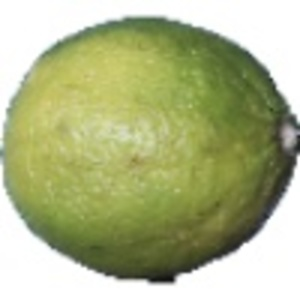limão: (1, 15, 300, 282)
